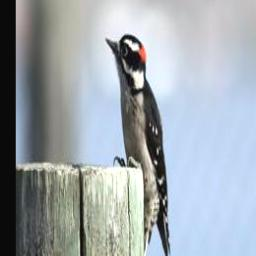Woodpecker: (104, 32, 171, 256)
